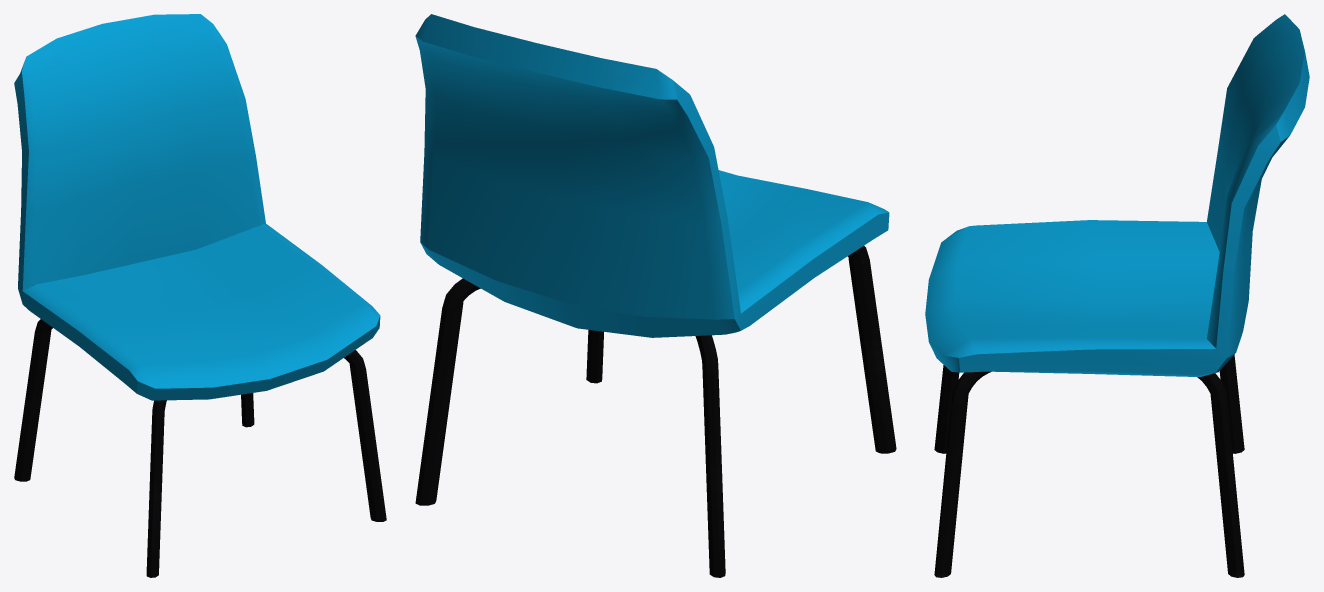
The model's file is blue_chair.fbx.
3 renders of one model, left to right at view 1: azimuth 30°, elevation 25°; view 2: azimuth 150°, elevation 25°; view 3: azimuth 270°, elevation 25°, orthographic. The views are drawn at different scales.
Parts seen in each view (by area): view 1: polySurface5; view 2: polySurface5; view 3: polySurface5.
Boxes of the visible parts, left/top/right/bottom form: polySurface5: left=14, top=14, right=386, bottom=577; polySurface5: left=415, top=14, right=896, bottom=577; polySurface5: left=925, top=14, right=1309, bottom=577.
Size of the model in its own units: 0.3108 by 0.4953 by 0.3777.
1 material, 1 textured.
